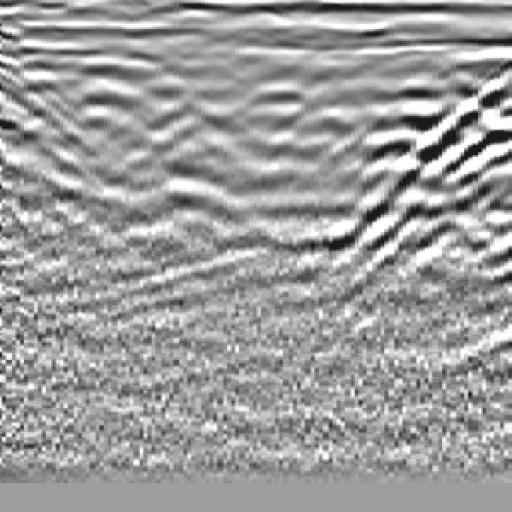metalic: (77, 26, 299, 289)
nonmetalic: (354, 24, 512, 278)
